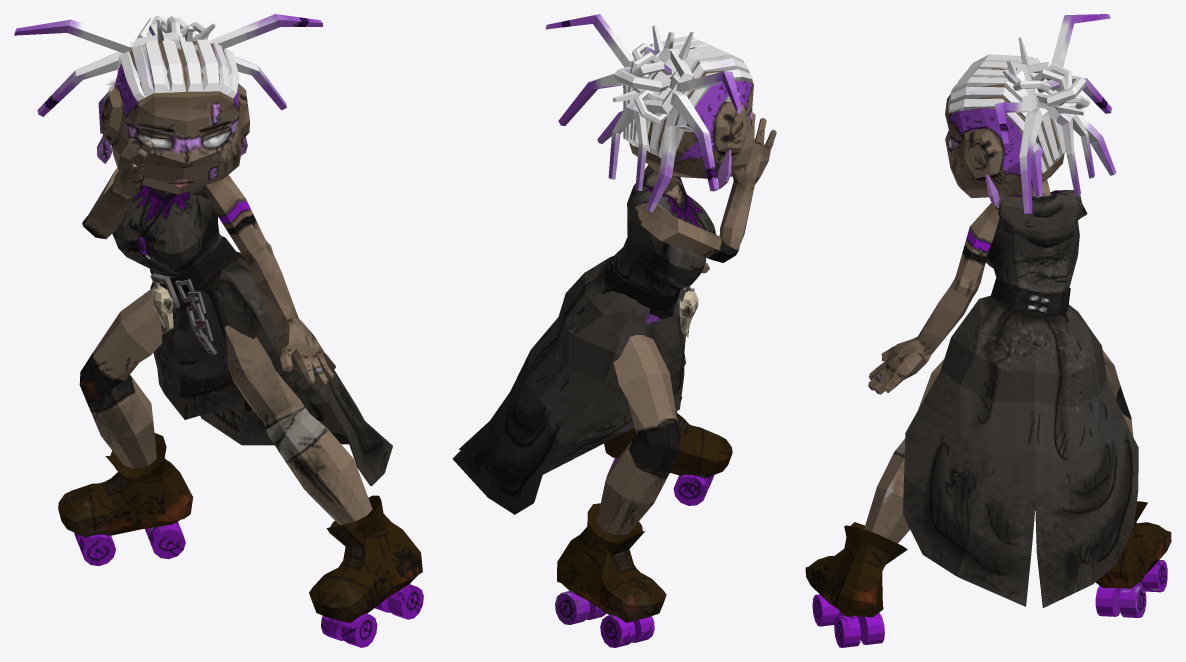
File: bruja_000051.obj
3 renders of one model, left to right at view 1: azimuth 30°, elevation 25°; view 2: azimuth 150°, elevation 25°; view 3: azimuth 270°, elevation 25°, orthographic. The views are drawn at different scales.
Parts seen in each view (by area): view 1: Bruja_Plane.001; view 2: Bruja_Plane.001; view 3: Bruja_Plane.001.
Boxes of the visible parts, x1,y1,x2,y2 form: Bruja_Plane.001: [14, 14, 423, 647]; Bruja_Plane.001: [452, 14, 776, 647]; Bruja_Plane.001: [805, 14, 1171, 647].
Bounding box in the file's own units: 9.24 × 15.43 × 9.25.
